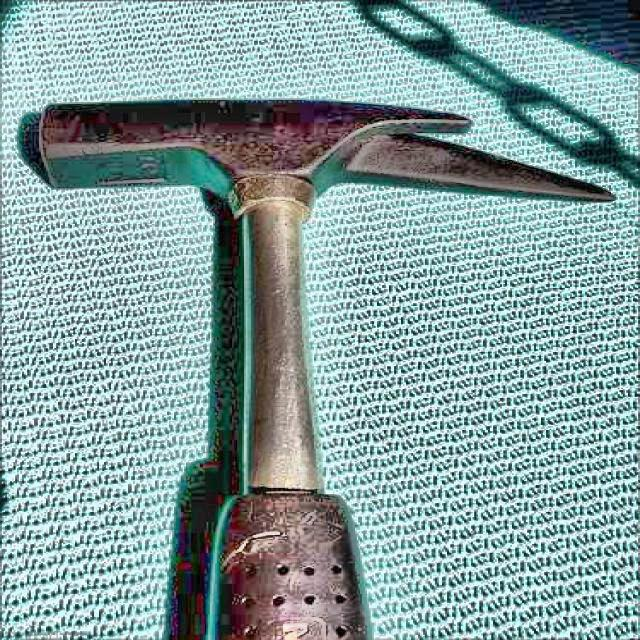hammer: (38, 97, 619, 640)
